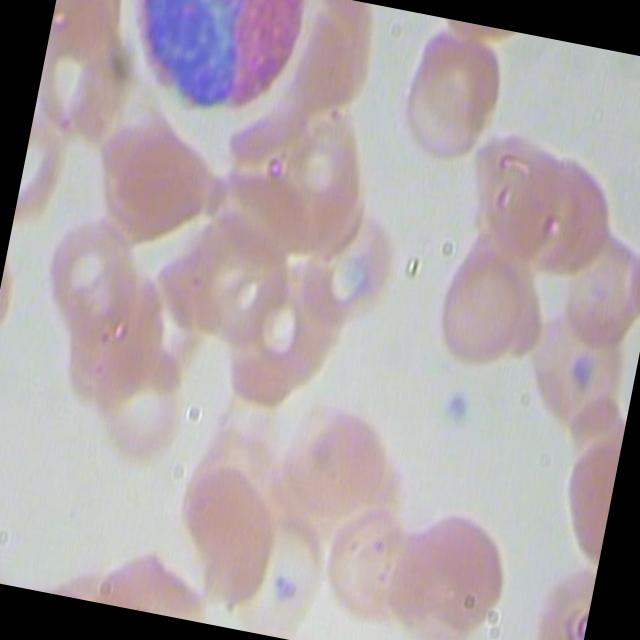Platelets: (436, 382, 484, 436), (264, 560, 312, 614)
RBC: (80, 80, 244, 258), (202, 250, 356, 423), (273, 370, 427, 542), (158, 444, 296, 622), (248, 90, 388, 264), (74, 317, 212, 490), (502, 128, 638, 294), (386, 14, 521, 180), (410, 225, 545, 391), (446, 104, 581, 270), (512, 268, 640, 441), (24, 207, 158, 356), (302, 486, 434, 634), (389, 497, 521, 640), (290, 196, 410, 338), (546, 194, 640, 362)
WBC: (117, 0, 316, 125)
